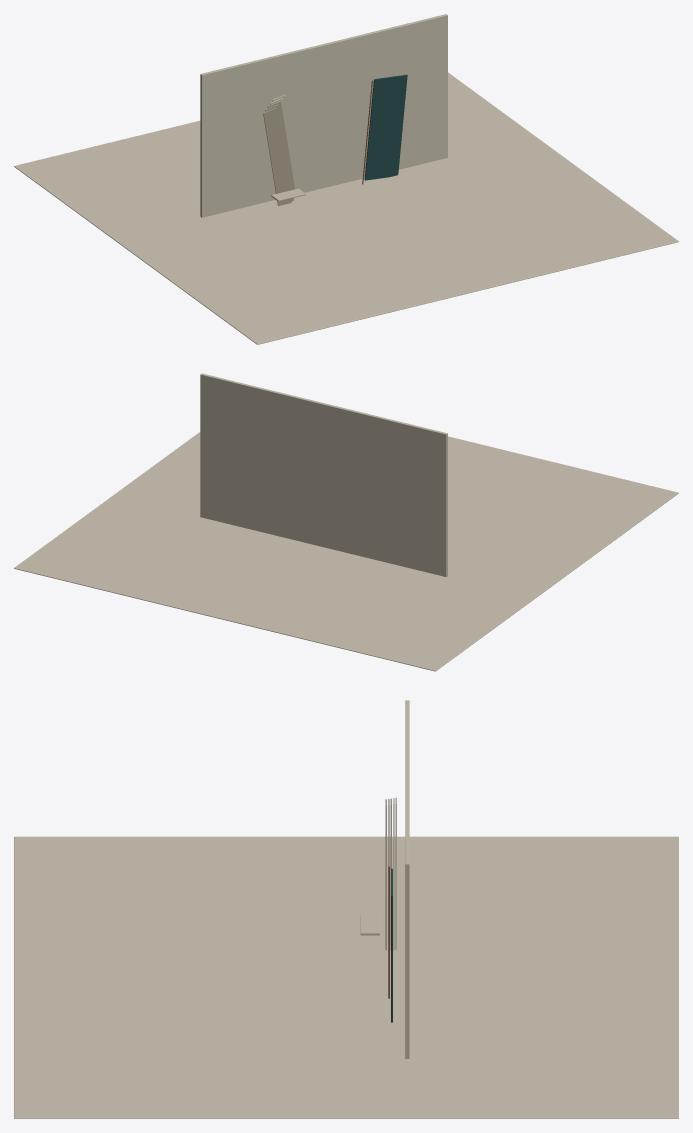
Rendered from atelier.glb.
3 renders of one model, top to bottom at view 1: azimuth 30°, elevation 25°; view 2: azimuth 150°, elevation 25°; view 3: azimuth 270°, elevation 25°, orthographic. The views are drawn at different scales.
Visible parts, largest first — view 1: Studio / cotton ivory / static batch, Studio / petrol paper / static batch, Studio / layered parchment / static batch; view 2: Studio / cotton ivory / static batch; view 3: Studio / cotton ivory / static batch, Studio / layered parchment / static batch.
Part boxes in pixels (x1,y1,x2,y2): Studio / cotton ivory / static batch: (14, 14, 678, 344); Studio / petrol paper / static batch: (364, 74, 407, 180); Studio / layered parchment / static batch: (263, 101, 294, 205); Studio / cotton ivory / static batch: (14, 373, 678, 671); Studio / cotton ivory / static batch: (14, 700, 678, 1118); Studio / layered parchment / static batch: (385, 798, 391, 950).
Bounding box in the file's own units: 12 × 4 × 12.
